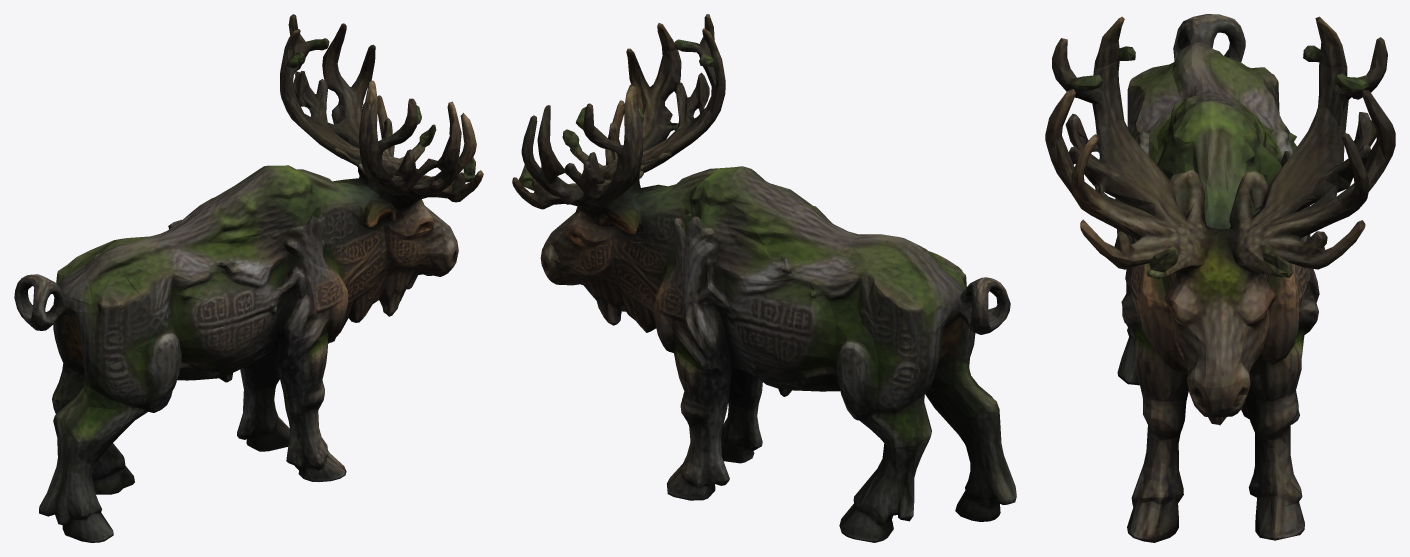
The model's file is bramblehoof.glb.
3 views of the same model, side by side, from view 1: azimuth 30°, elevation 25°; view 2: azimuth 150°, elevation 25°; view 3: azimuth 270°, elevation 25° (orthographic). The views are drawn at different scales.
Visible parts, largest first — view 1: world; view 2: world; view 3: world.
Part boxes in pixels (box(x1,y1,x2,y2)): world: box(14, 14, 483, 542); world: box(512, 14, 1016, 542); world: box(1045, 14, 1395, 542).
Size of the model in its own units: 0.9982 by 0.862 by 0.509.
Materials: 1 (1 with a texture image).
